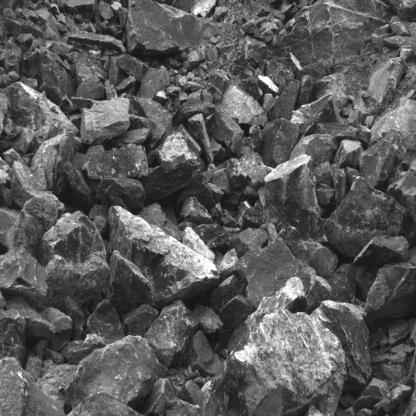stone: (203, 308, 344, 416), (108, 207, 217, 303), (272, 1, 393, 68), (66, 335, 169, 406), (328, 177, 416, 257), (39, 212, 108, 302), (238, 226, 310, 307), (265, 163, 329, 243), (128, 0, 228, 50), (312, 304, 372, 383), (1, 357, 67, 416), (3, 192, 58, 260), (22, 49, 77, 113), (146, 300, 197, 368), (29, 130, 74, 207), (140, 155, 205, 205), (104, 251, 154, 313), (365, 262, 416, 319), (360, 132, 404, 193), (215, 77, 268, 127), (0, 246, 47, 299), (80, 97, 131, 143), (292, 93, 341, 139), (87, 144, 149, 178), (262, 119, 301, 168), (67, 394, 149, 416), (157, 124, 202, 164), (184, 330, 222, 377), (86, 301, 126, 345), (63, 163, 96, 213), (63, 30, 126, 54), (95, 178, 145, 208), (289, 134, 338, 164), (207, 111, 243, 151), (0, 310, 25, 365), (316, 122, 371, 146), (44, 309, 74, 350), (124, 305, 160, 337), (137, 65, 169, 100), (230, 228, 267, 253), (180, 198, 213, 226), (116, 54, 150, 81), (333, 140, 364, 169), (265, 60, 294, 86), (239, 201, 266, 225), (179, 380, 204, 405), (210, 70, 230, 101)
